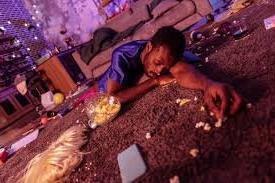Drunk: (143, 44, 171, 79)
